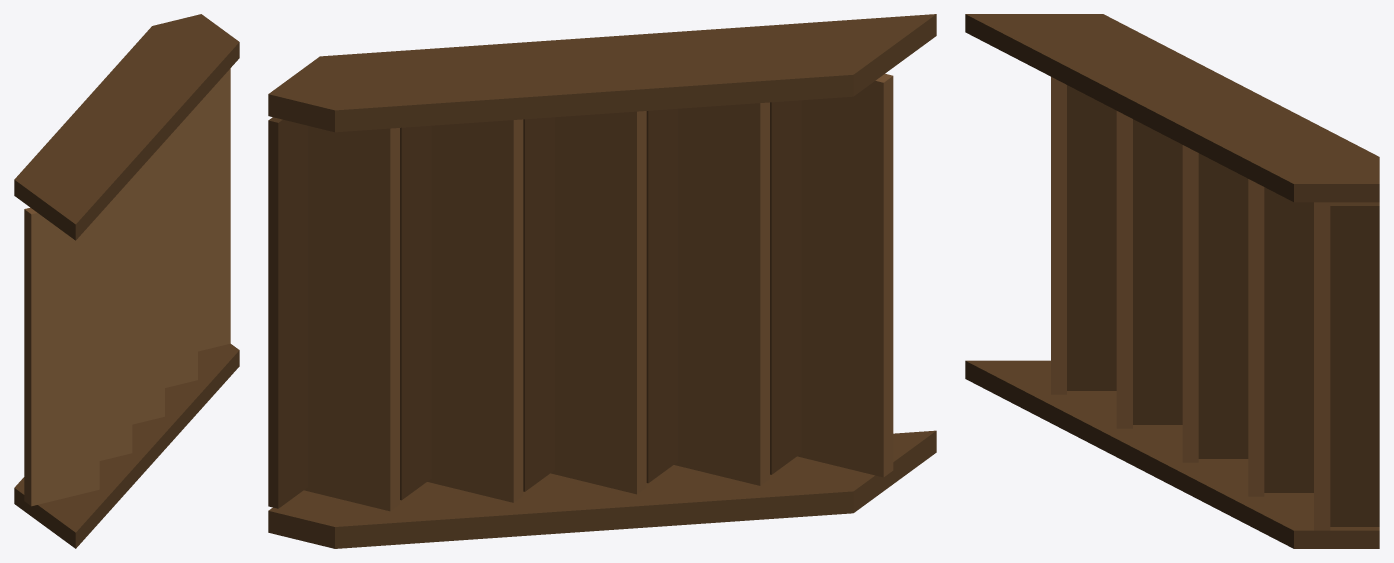
Rendered from stairs-bottom.obj.
The picture shows the model from 3 angles, left to right: view 1: azimuth 30°, elevation 25°; view 2: azimuth 150°, elevation 25°; view 3: azimuth 270°, elevation 25°; orthographic projection. The views are drawn at different scales.
Bounding box in the file's own units: 1.02 × 1 × 1.03.
1 material, 1 textured.
